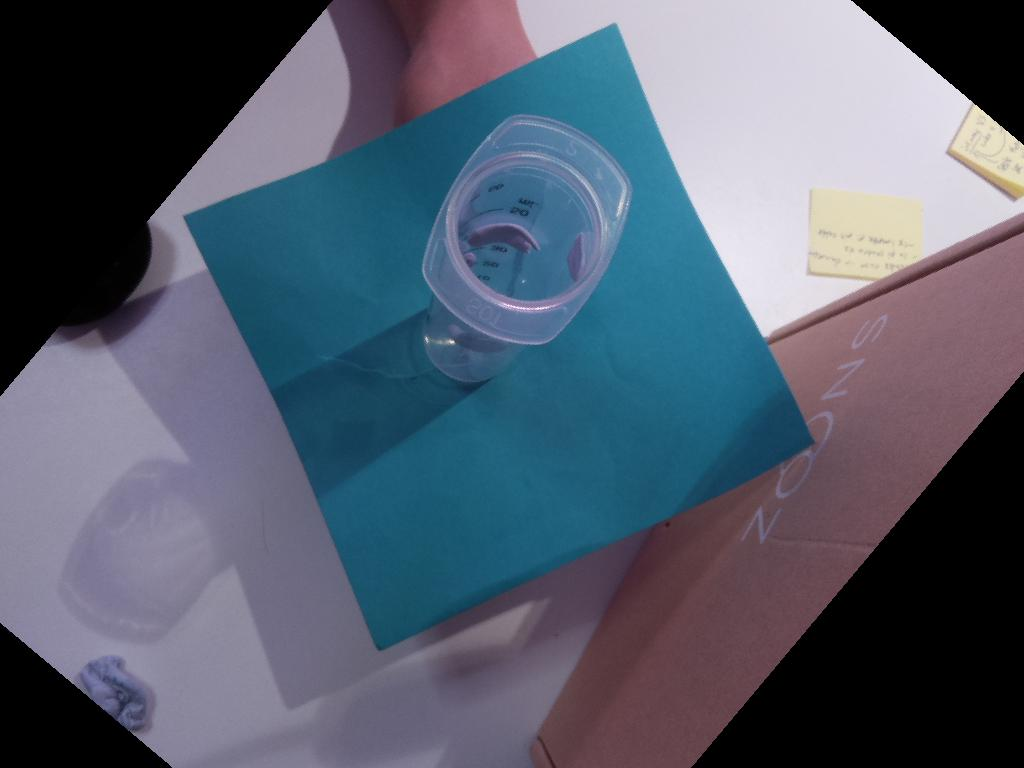dirty: (422, 114, 632, 344)
